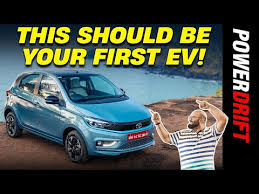Tiago: (4, 68, 157, 165)
